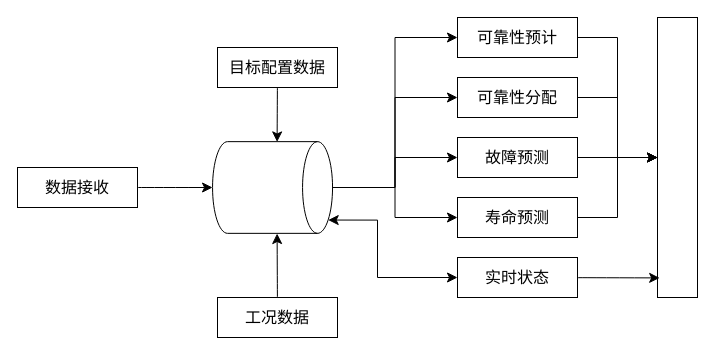
This 715x355 diagram has some shape labels left out. The shapes that lost their labels are listed below. From the top down, each one's centre as x and y in pixels, then its label:
At point 677,157: "交互界面".
At point 272,187: "数据库".
